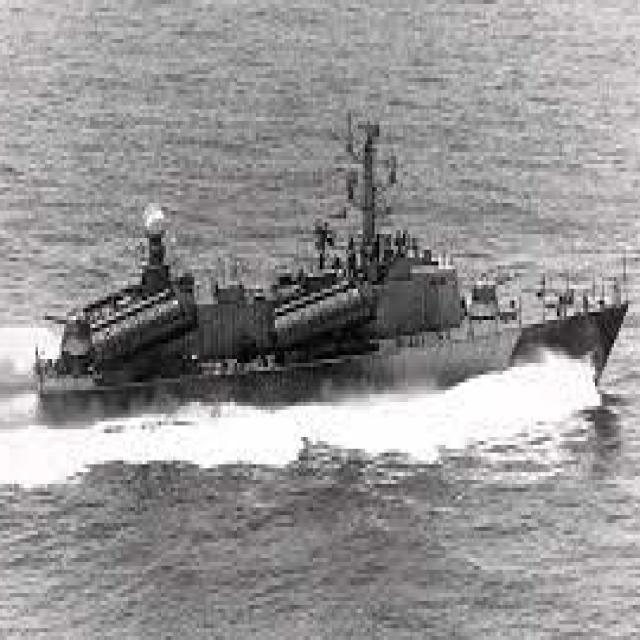navalvessels: (36, 83, 630, 455)
